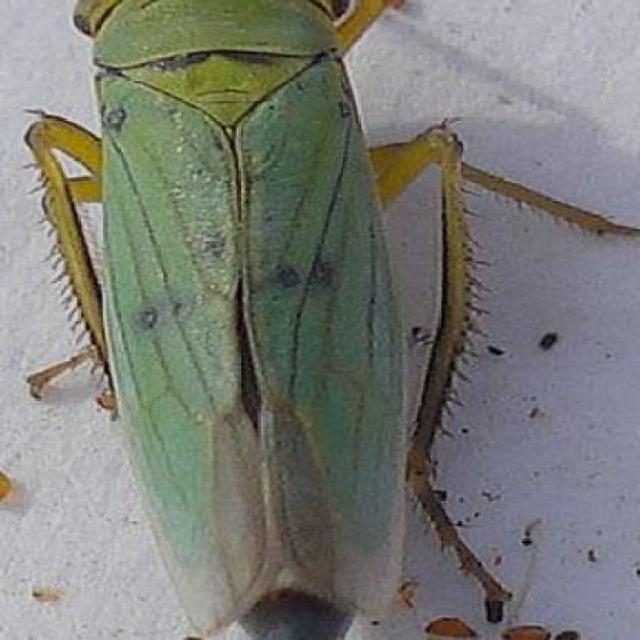green-leafhopper: (66, 0, 460, 640)
